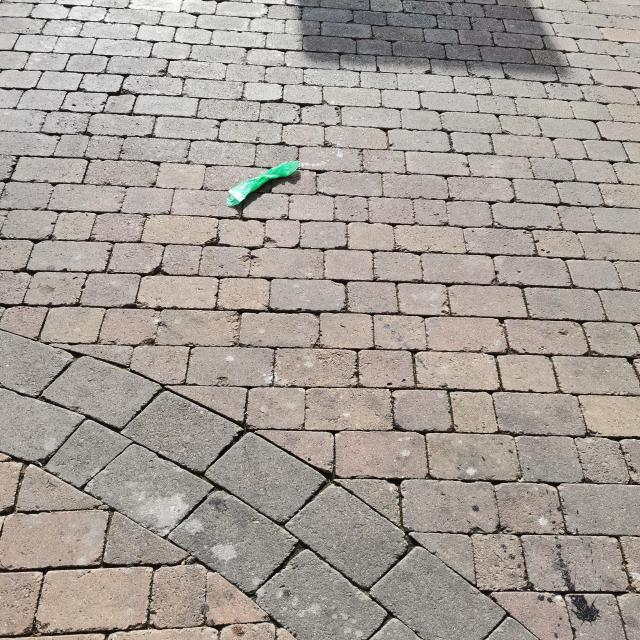litter: (220, 159, 303, 210)
